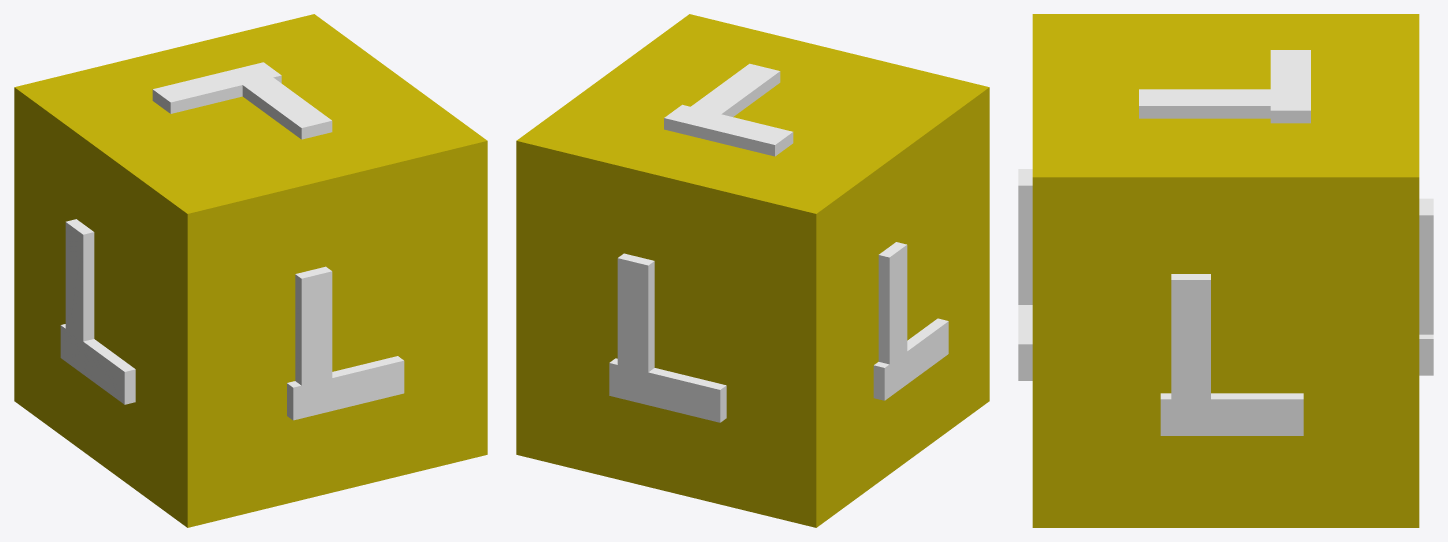
The model's file is DISTRACTOR_1.glb.
3 renders of one model, left to right at view 1: azimuth 30°, elevation 25°; view 2: azimuth 150°, elevation 25°; view 3: azimuth 270°, elevation 25°, orthographic. The views are drawn at different scales.
Parts seen in each view (by area): view 1: DISTRACTOR_HIGH_1; view 2: DISTRACTOR_HIGH_1; view 3: DISTRACTOR_HIGH_1.
Boxes of the visible parts, <box> form: DISTRACTOR_HIGH_1: <box>14,14,487,527</box>; DISTRACTOR_HIGH_1: <box>516,14,989,527</box>; DISTRACTOR_HIGH_1: <box>1018,14,1433,527</box>.
Bounding box in the file's own units: 2.15 × 2.15 × 2.15.
